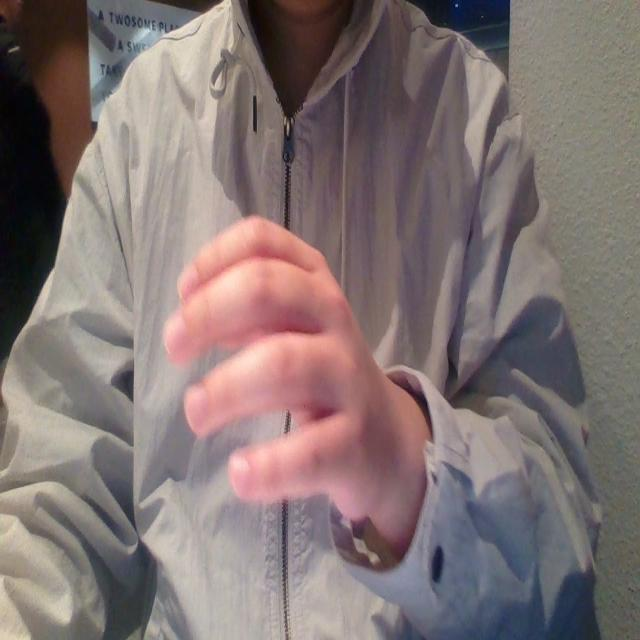hand: (165, 218, 412, 536)
